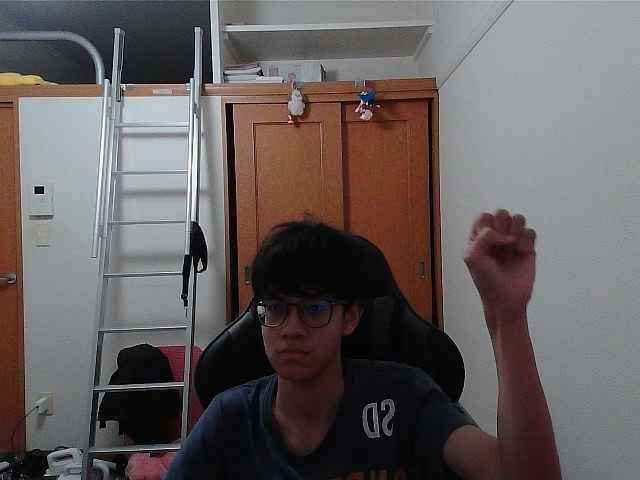closed_palm: (473, 213, 529, 299)
